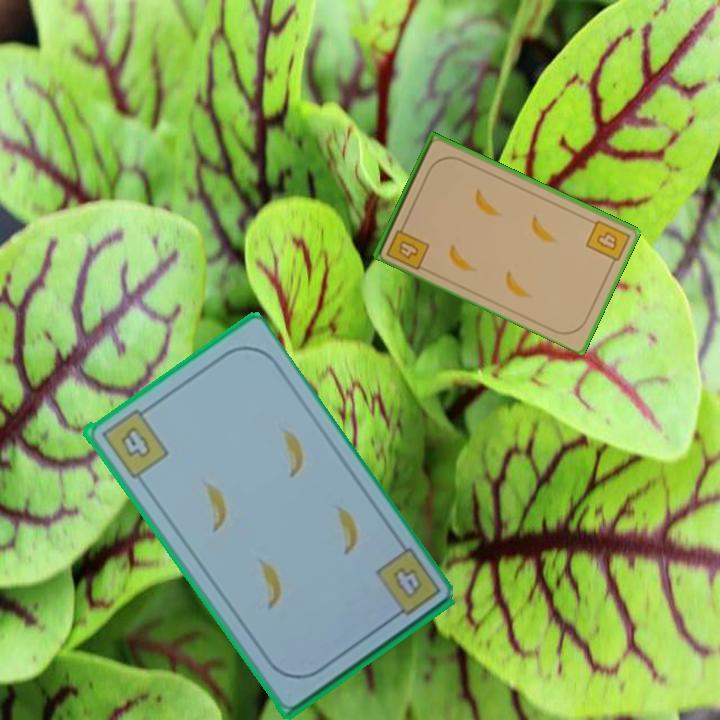4b: (96, 402, 171, 481), (371, 544, 444, 625), (382, 218, 432, 272), (582, 216, 632, 269)
